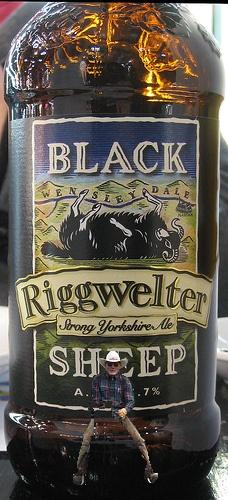tampered: (74, 352, 158, 485)
